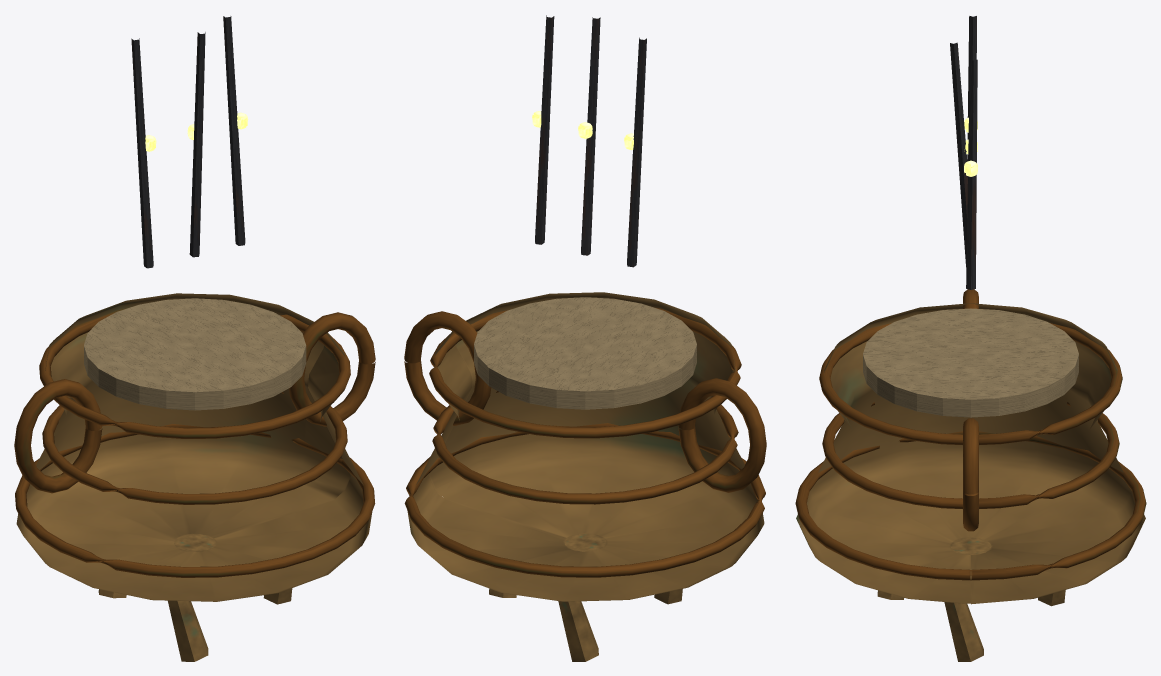
File: incense_burner.glb
3 renders of one model, left to right at view 1: azimuth 30°, elevation 25°; view 2: azimuth 150°, elevation 25°; view 3: azimuth 270°, elevation 25°, orthographic. The views are drawn at different scales.
Visible parts, largest first — view 1: Bowl, Art_OxidizedBrass, Art_UnbleachedPaper, IncenseR, IncenseL, IncenseMid, Leg1; view 2: Bowl, Art_OxidizedBrass, Art_UnbleachedPaper, IncenseMid, IncenseR, IncenseL, Leg2; view 3: Bowl, Art_UnbleachedPaper, Art_OxidizedBrass, IncenseR, IncenseMid, Leg0.
Boxes of the visible parts, bbox=[...] form: Bowl: bbox=[16, 293, 372, 601]; Art_OxidizedBrass: bbox=[14, 308, 375, 577]; Art_UnbleachedPaper: bbox=[84, 298, 306, 410]; IncenseR: bbox=[223, 16, 245, 245]; IncenseL: bbox=[131, 38, 153, 268]; IncenseMid: bbox=[189, 32, 205, 257]; Leg1: bbox=[168, 600, 208, 661]; Bowl: bbox=[407, 292, 764, 601]; Art_OxidizedBrass: bbox=[404, 307, 766, 577]; Art_UnbleachedPaper: bbox=[474, 297, 696, 409]; IncenseMid: bbox=[581, 17, 600, 255]; IncenseR: bbox=[535, 15, 554, 244]; IncenseL: bbox=[627, 37, 646, 267]; Leg2: bbox=[558, 601, 598, 661]; Bowl: bbox=[796, 303, 1145, 604]; Art_UnbleachedPaper: bbox=[863, 308, 1078, 417]; Art_OxidizedBrass: bbox=[795, 289, 1146, 580]; IncenseR: bbox=[966, 59, 977, 289]; IncenseMid: bbox=[950, 42, 967, 266]; Leg0: bbox=[944, 602, 983, 661].
Size of the model in its own units: 0.391 by 0.6182 by 0.341.
5 materials, 4 textured.
